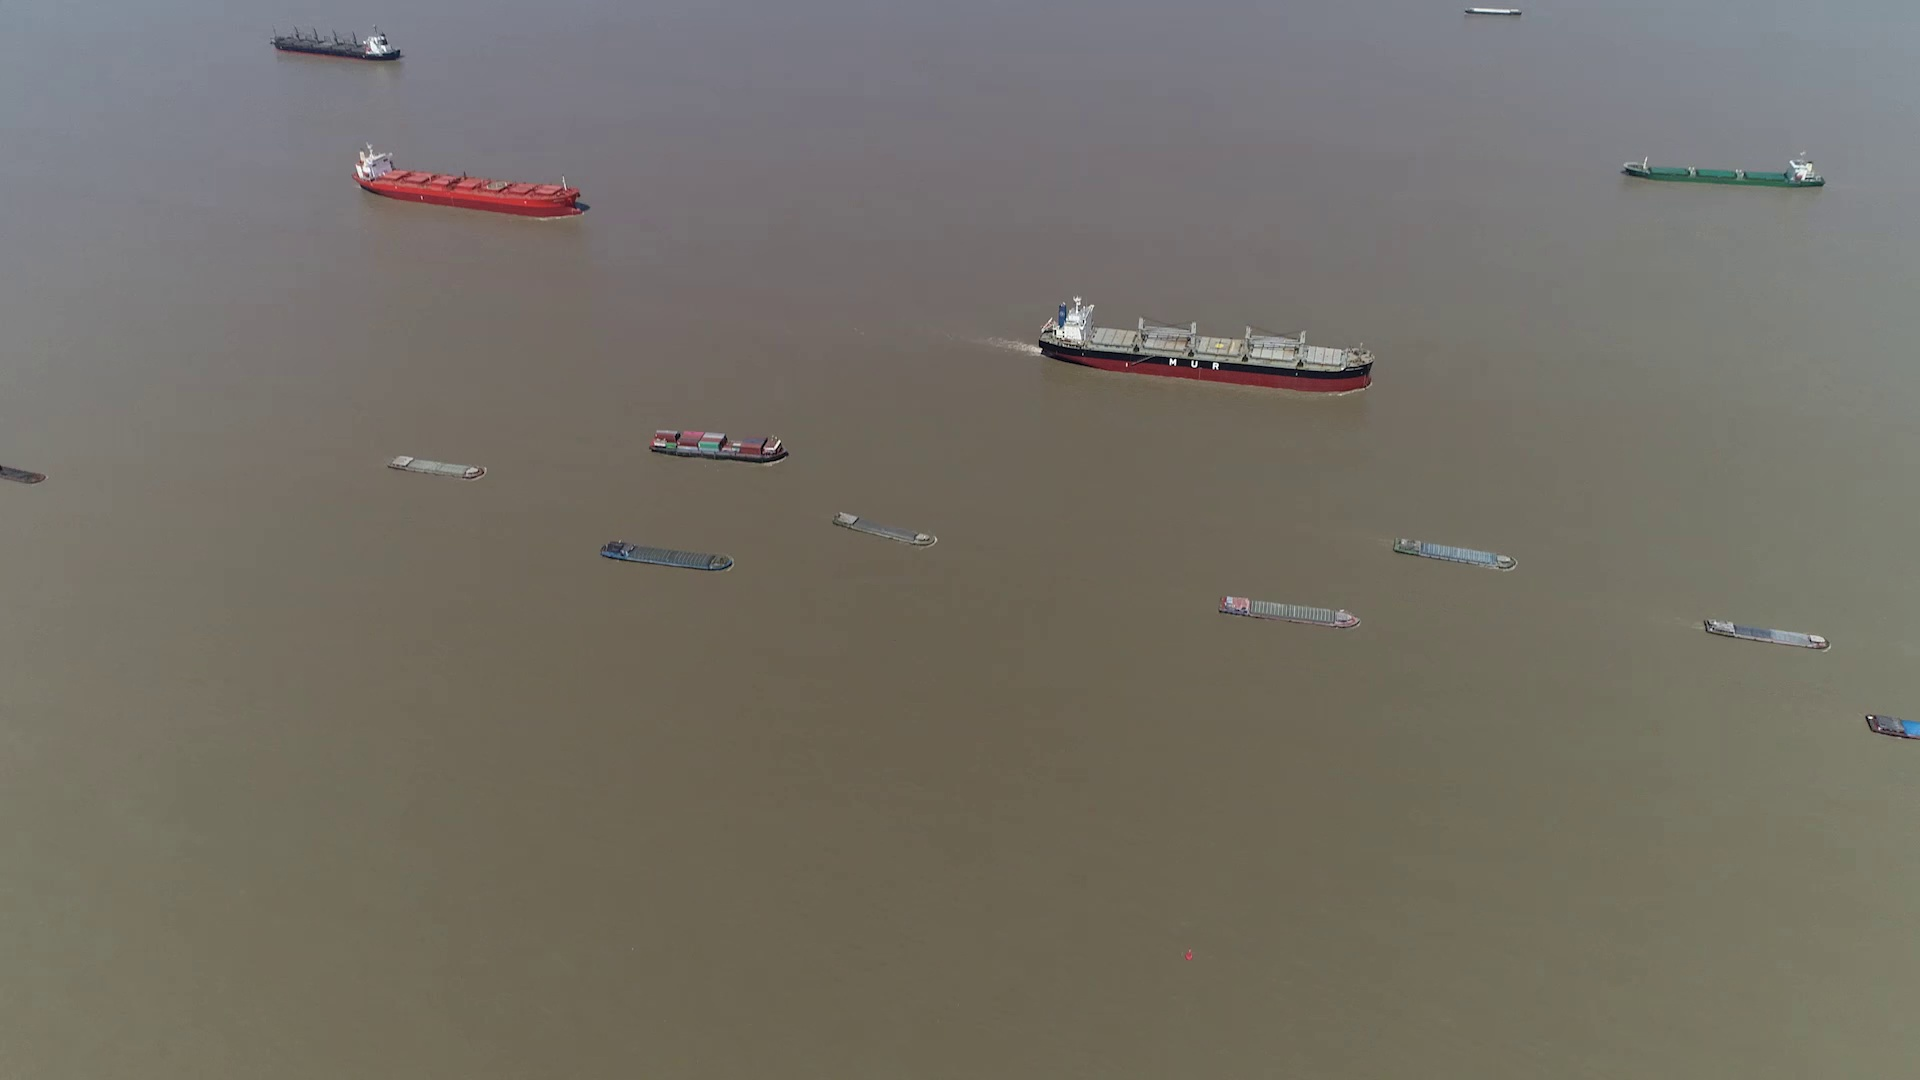ship: (1038, 299, 1373, 392), (353, 146, 582, 216), (1622, 152, 1826, 185), (626, 498, 781, 542), (1217, 593, 1357, 628), (651, 429, 789, 462), (269, 28, 402, 61), (597, 541, 735, 572), (1393, 535, 1516, 568), (1702, 617, 1832, 647), (833, 512, 935, 546), (386, 452, 487, 477), (1865, 713, 1920, 744), (0, 459, 46, 489), (1465, 7, 1522, 18)
